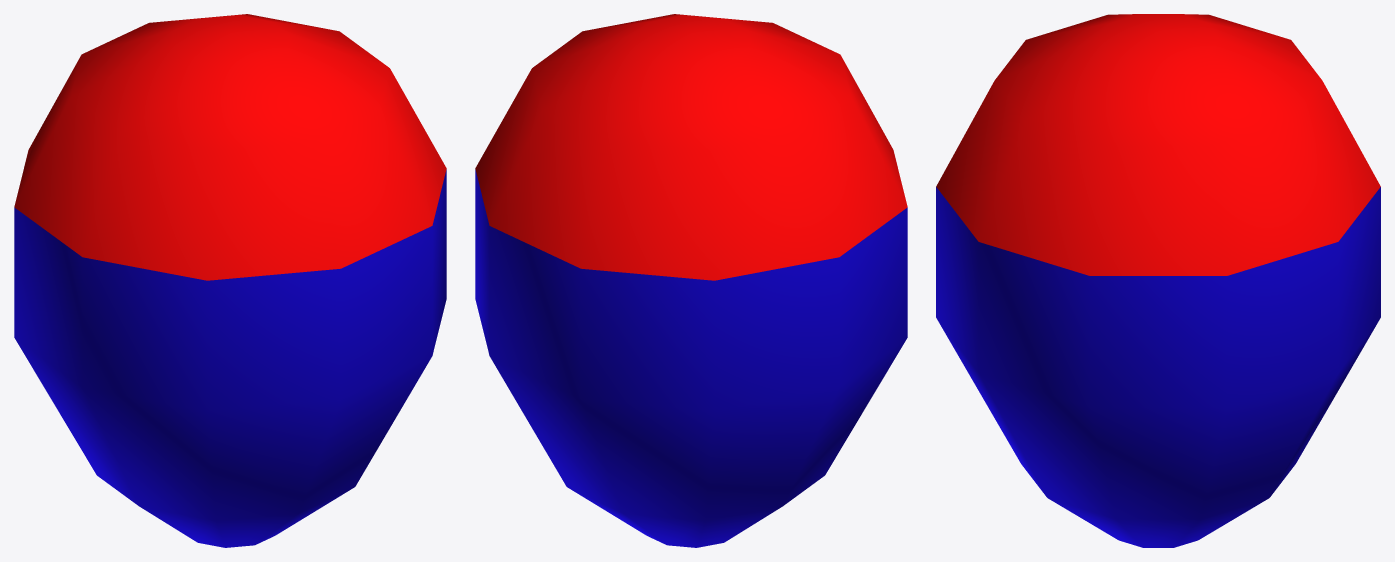
Rendered from bob2.FBX.
3 views of the same model, side by side, from view 1: azimuth 30°, elevation 25°; view 2: azimuth 150°, elevation 25°; view 3: azimuth 270°, elevation 25° (orthographic).
Parts seen in each view (by area): view 1: Sphere001; view 2: Sphere001; view 3: Sphere001.
Part boxes in pixels (x1=…): Sphere001: x1=14, y1=14, x2=446, y2=547; Sphere001: x1=475, y1=14, x2=907, y2=547; Sphere001: x1=936, y1=14, x2=1380, y2=547.
Size of the model in its own units: 55.13 by 72.58 by 57.97.
